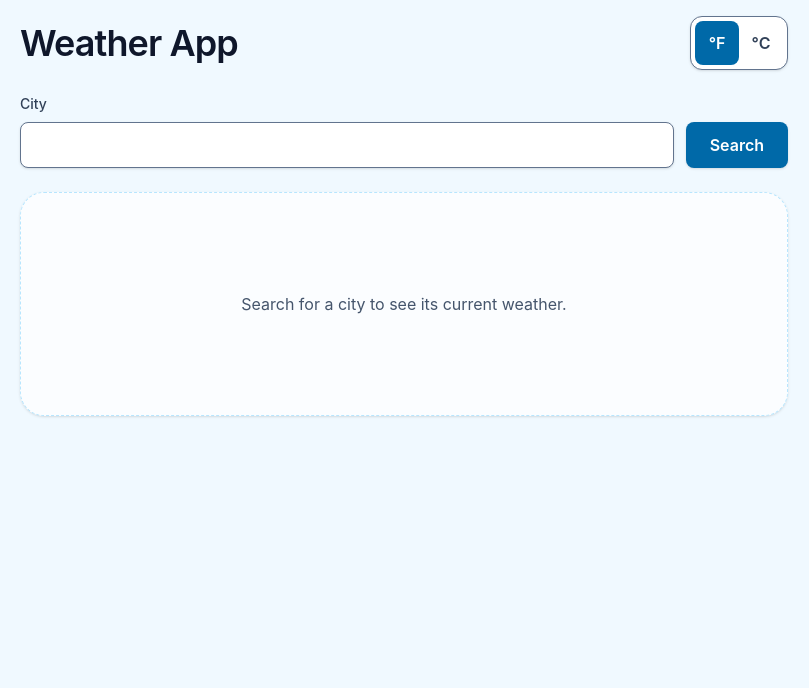
Scenario: App › retries the submitted location with current units while preserving unsubmitted edits
This screenshot has width=809, height=688.
In the field labelled "City": (347, 145) [20,122,674,168], type "Tampa"
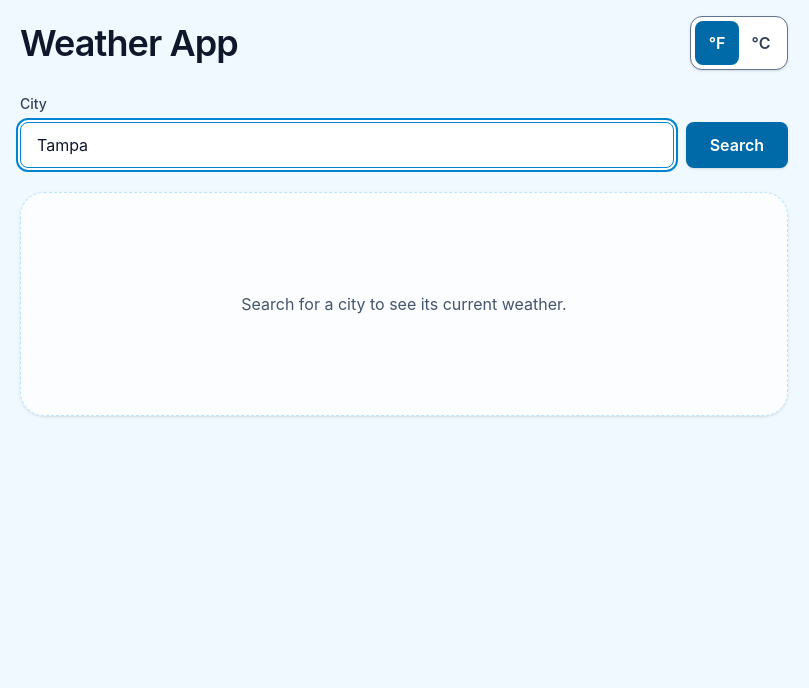
Click the button "Search": click(737, 145) [686,122,788,168]
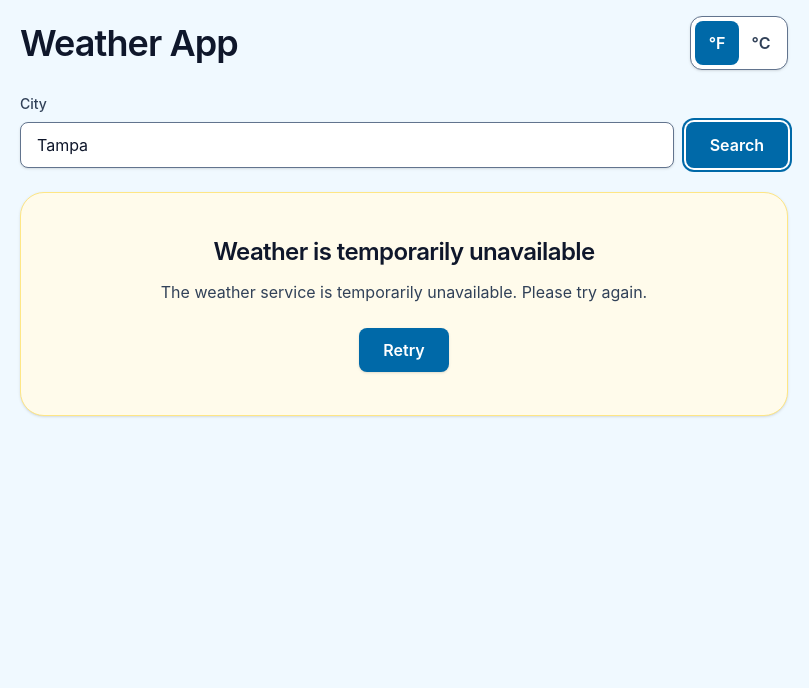
Check: the heading "Weather is temporarily unavailable" is shown, box [213,237,594,266]
Replace the text in the field labelled "City" with "Orlando": (347, 145) [20,122,674,168]
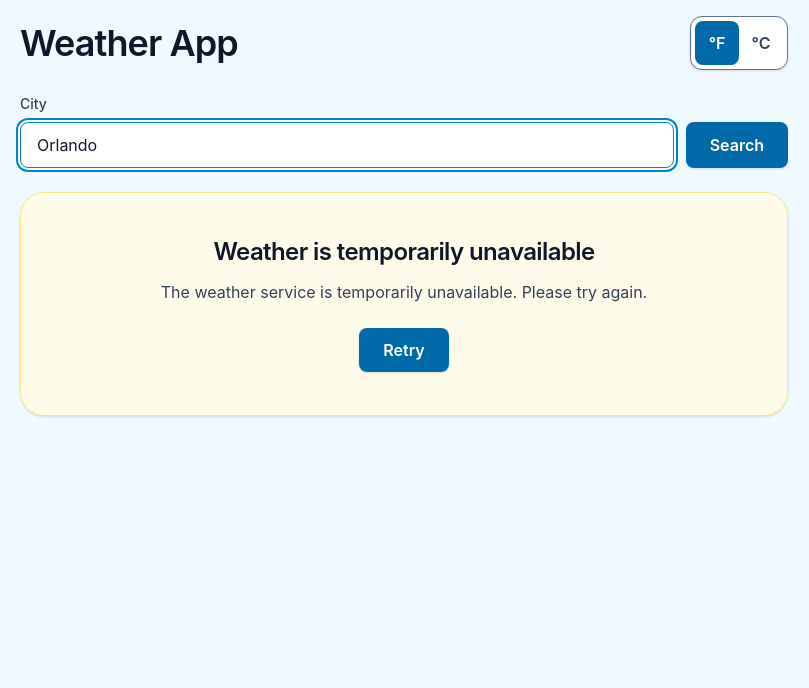
Click the radio button named "Celsius (metric units)": click(761, 43) [752,33,770,53]
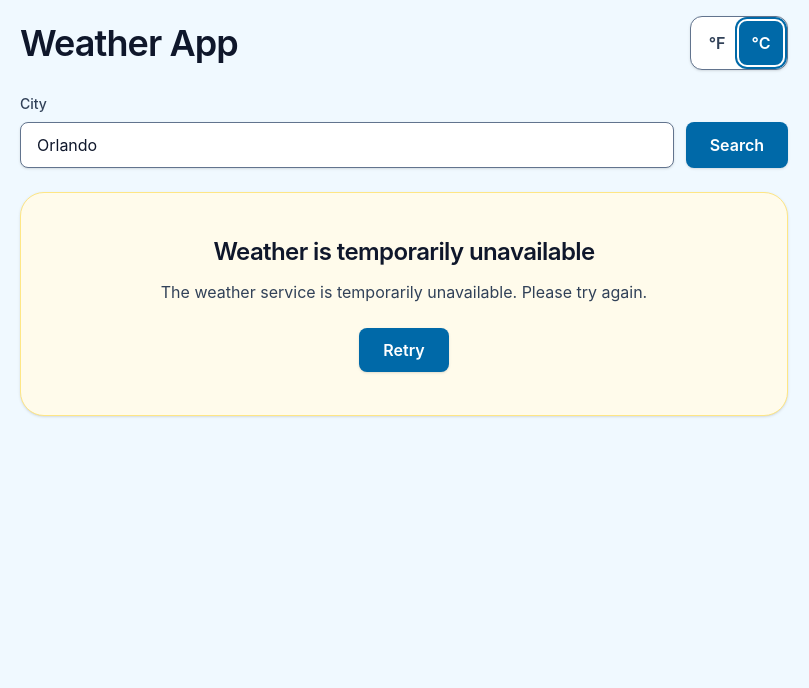
Click the button "Retry": click(404, 350) [359,328,449,372]
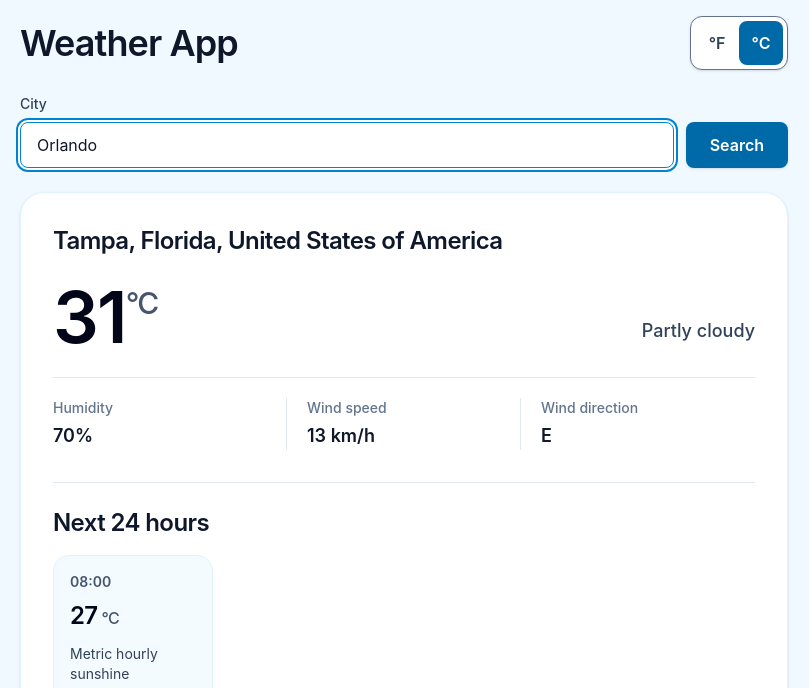
Check: the text "31" is shown, box [53,281,126,353]
Check: the text "°C" below "Tampa, Florida, United States of America" is shown, box [126,285,157,321]
